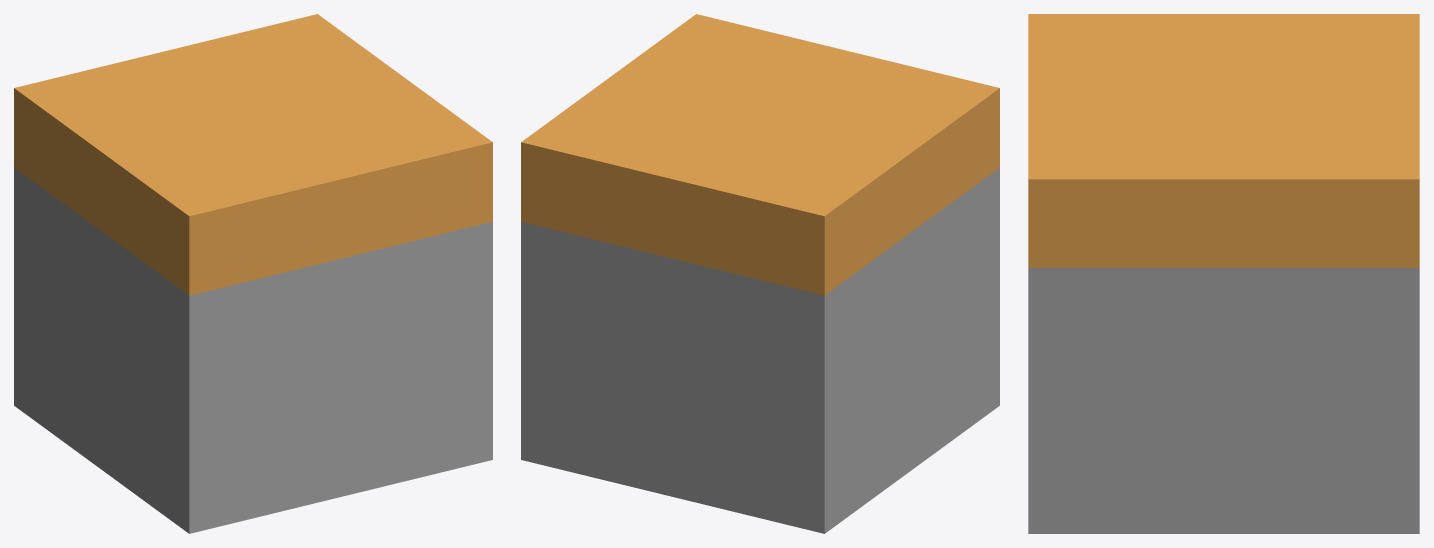
File: Floor.obj
3 views of the same model, side by side, from view 1: azimuth 30°, elevation 25°; view 2: azimuth 150°, elevation 25°; view 3: azimuth 270°, elevation 25° (orthographic). The views are drawn at different scales.
Visible parts, largest first — view 1: Floor; view 2: Floor; view 3: Floor.
Boxes of the visible parts, x1,y1,x2,y2 form: Floor: (14, 14, 492, 533); Floor: (521, 14, 999, 533); Floor: (1028, 14, 1419, 533).
Bounding box in the file's own units: 1 × 1 × 1.
